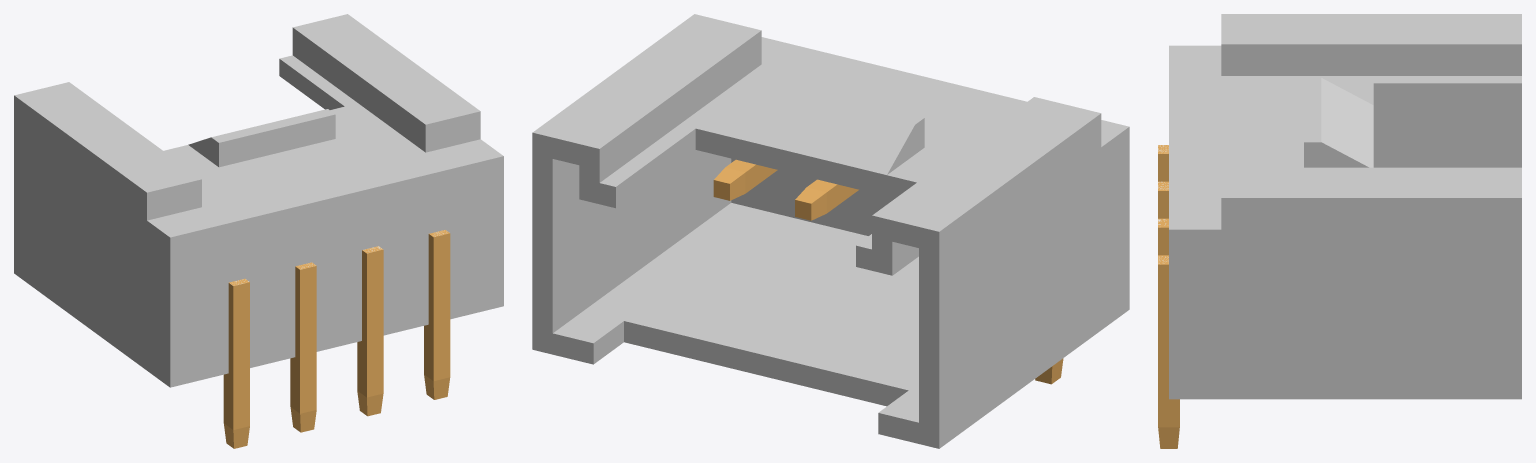
Rendered from 1125S-4P_angeled.dae.
3 renders of one model, left to right at view 1: azimuth 30°, elevation 25°; view 2: azimuth 150°, elevation 25°; view 3: azimuth 270°, elevation 25°, orthographic. The views are drawn at different scales.
Visible parts, largest first — view 1: group_0, group_1 (×4); view 2: group_0, Shape_Defintion (×2); view 3: group_0, group_1.
Part boxes in pixels (x1,y1,x2,y2): group_0: (14, 14, 503, 387); group_1 (×4): (223, 233, 450, 448); group_0: (532, 14, 1129, 448); Shape_Defintion (×2): (713, 159, 858, 220); group_0: (1169, 14, 1521, 399); group_1: (1158, 264, 1179, 448).
Bounding box in the file's own units: 3.94 × 3.29 × 2.83.
